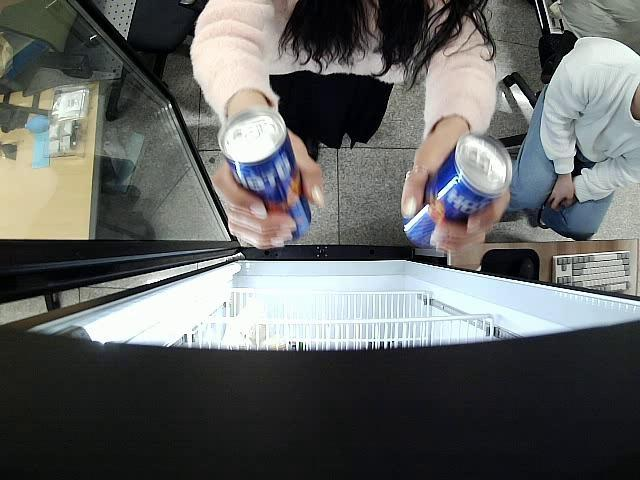16_hot6: (216, 107, 312, 239), (398, 136, 512, 245)
